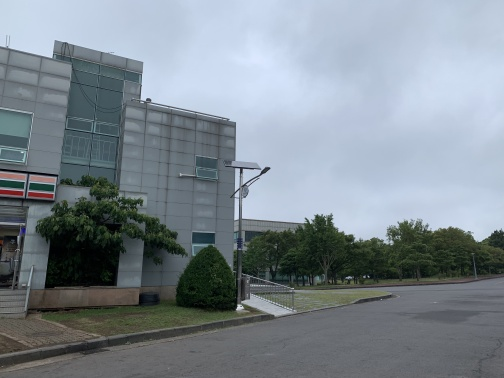Global House: (1, 41, 234, 308)
Second Library: (235, 217, 314, 247)
